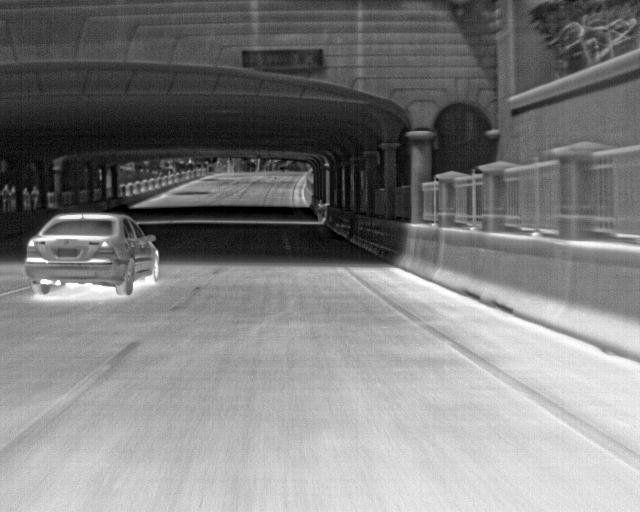bicycle: (24, 209, 162, 294)
empty: (316, 198, 330, 224)
